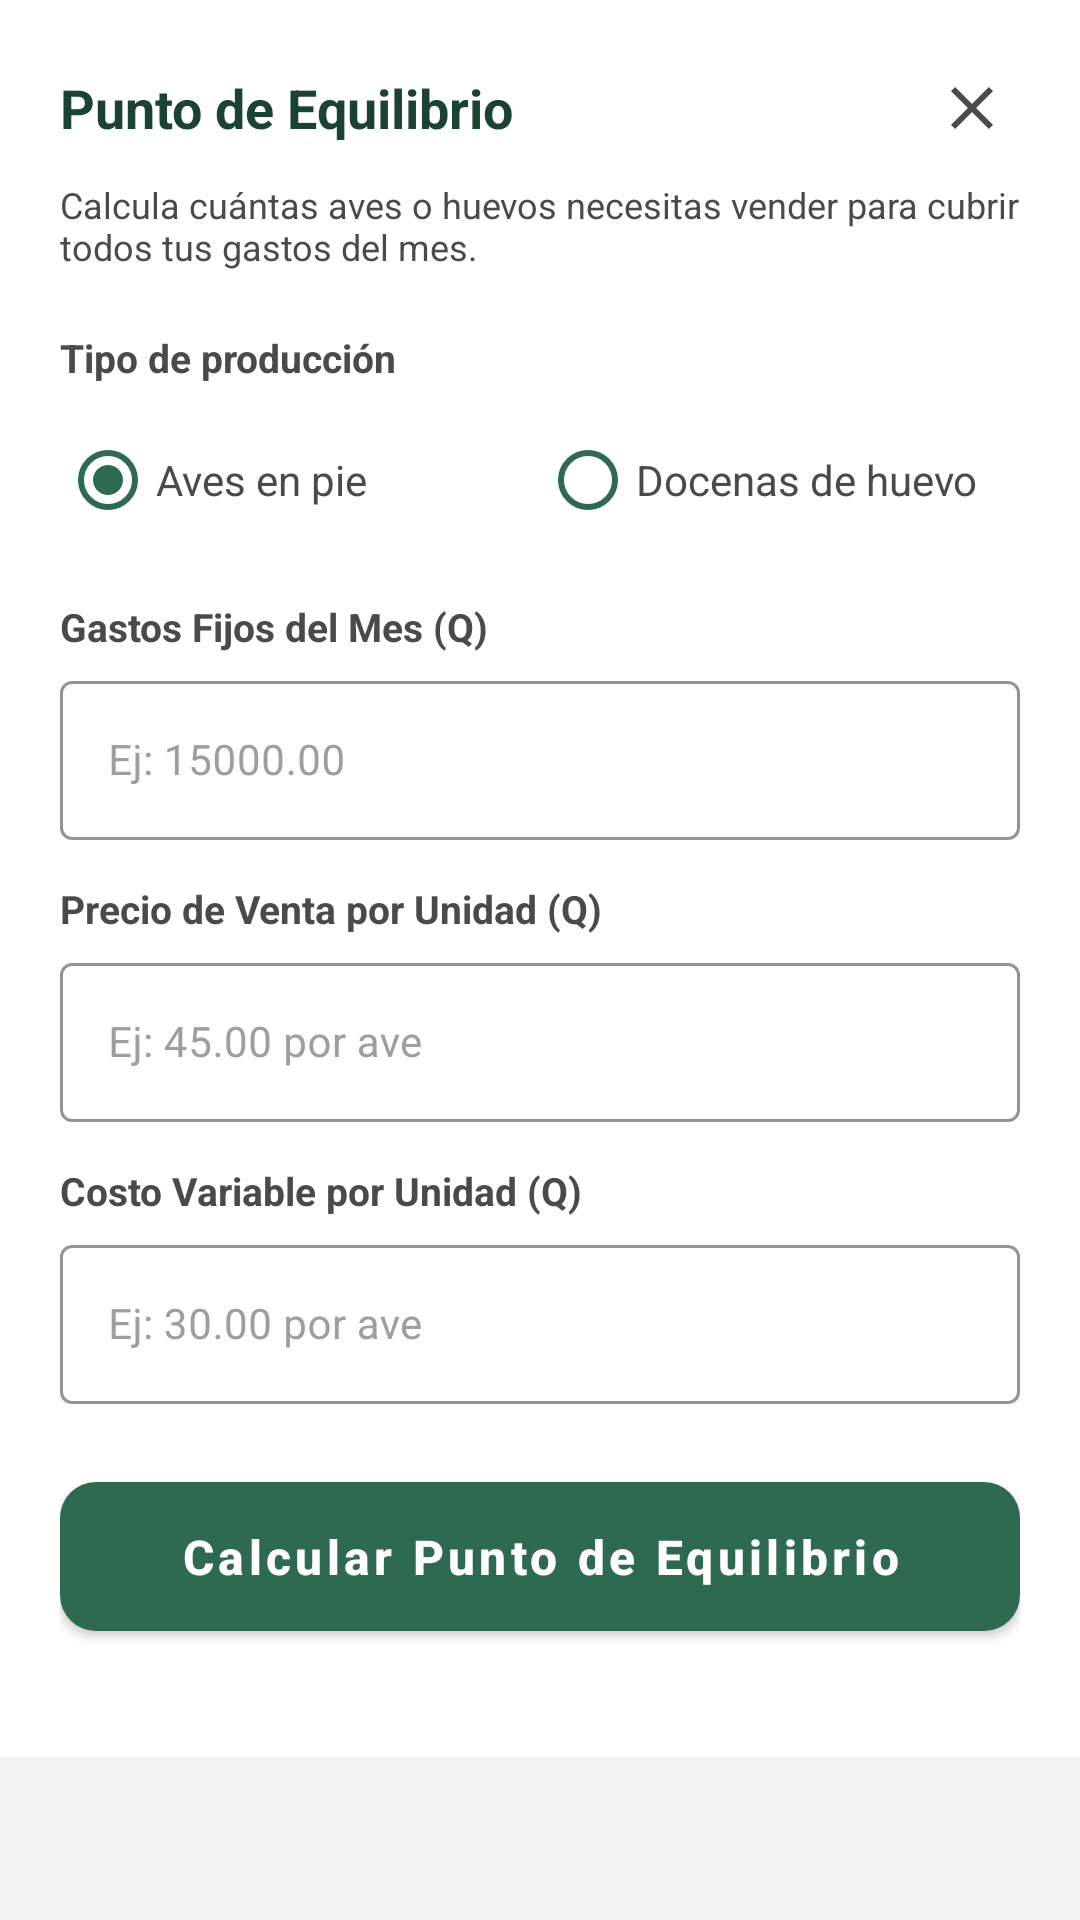

Icons on this 1080w x 1920h Android screen, each with its box as [x1=x1, y1=y1, x2=x2, y2=y2]:
Cerrar: [x1=951, y1=87, x2=993, y2=129]
